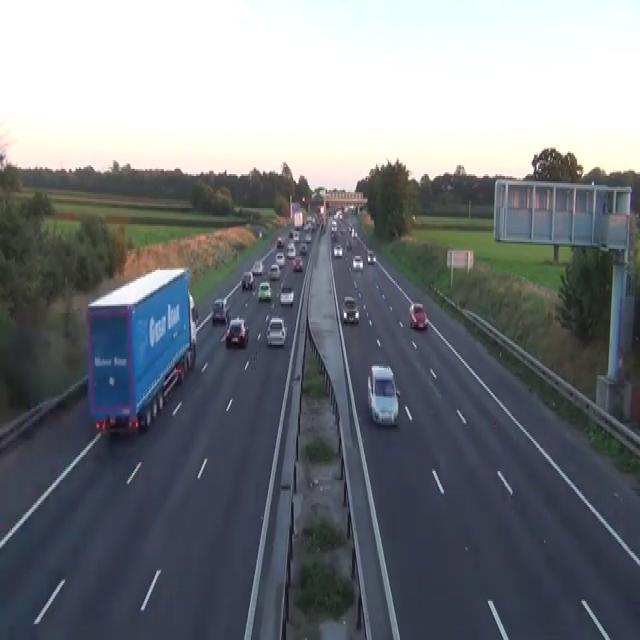Car: (367, 362, 400, 427), (225, 316, 249, 348), (266, 316, 286, 346), (341, 295, 359, 324), (211, 297, 230, 323), (409, 302, 427, 329), (188, 292, 198, 324), (279, 284, 294, 304), (241, 270, 254, 290), (258, 281, 271, 300), (305, 215, 317, 231), (352, 254, 363, 270), (292, 256, 303, 272), (269, 263, 280, 279), (251, 260, 263, 274), (333, 242, 343, 258), (275, 250, 285, 266), (175, 363, 183, 382), (286, 242, 295, 258), (367, 249, 375, 263), (441, 182, 455, 190), (334, 208, 343, 219), (276, 235, 284, 247), (299, 242, 307, 254), (193, 306, 199, 322), (330, 219, 337, 231), (293, 229, 299, 242), (305, 233, 311, 242), (347, 222, 353, 231), (346, 240, 352, 249), (352, 228, 357, 238), (258, 228, 262, 238), (288, 230, 293, 238)
Truck: (85, 265, 198, 435)
